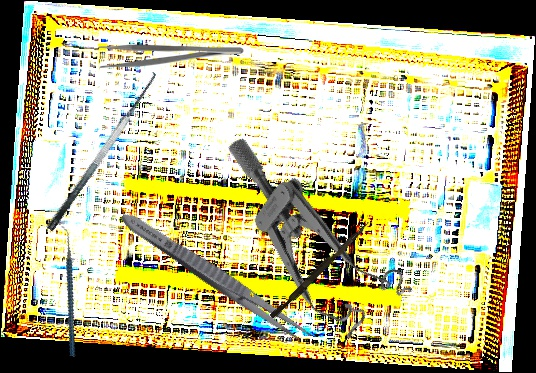Chopper: (23, 224, 111, 358)
Dressing Forceps: (115, 206, 318, 349), (98, 44, 244, 69)
Pusher: (269, 217, 371, 322)
Spatula Surgical: (33, 65, 165, 233)
Speculum: (178, 133, 428, 355)
